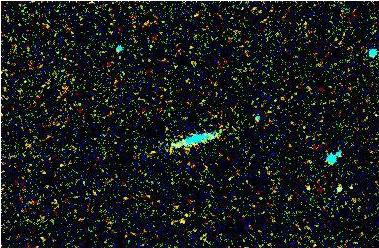star: (296, 169, 326, 199)
